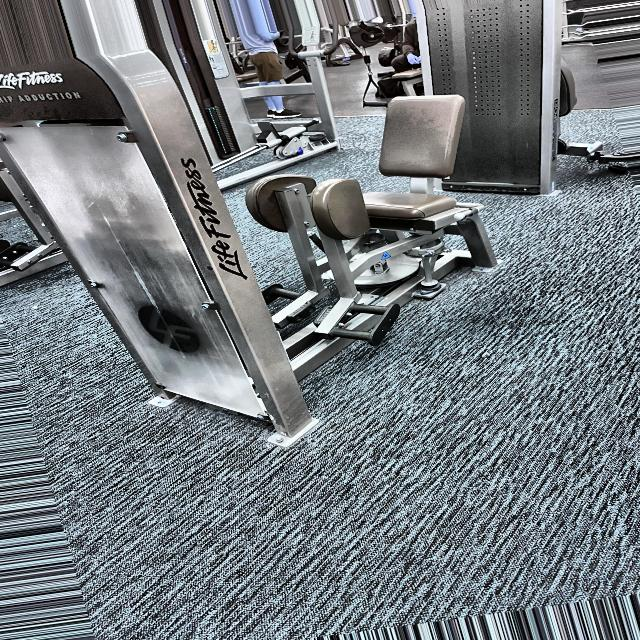hip_adduction_machine: (259, 70, 463, 375), (0, 91, 159, 113)
